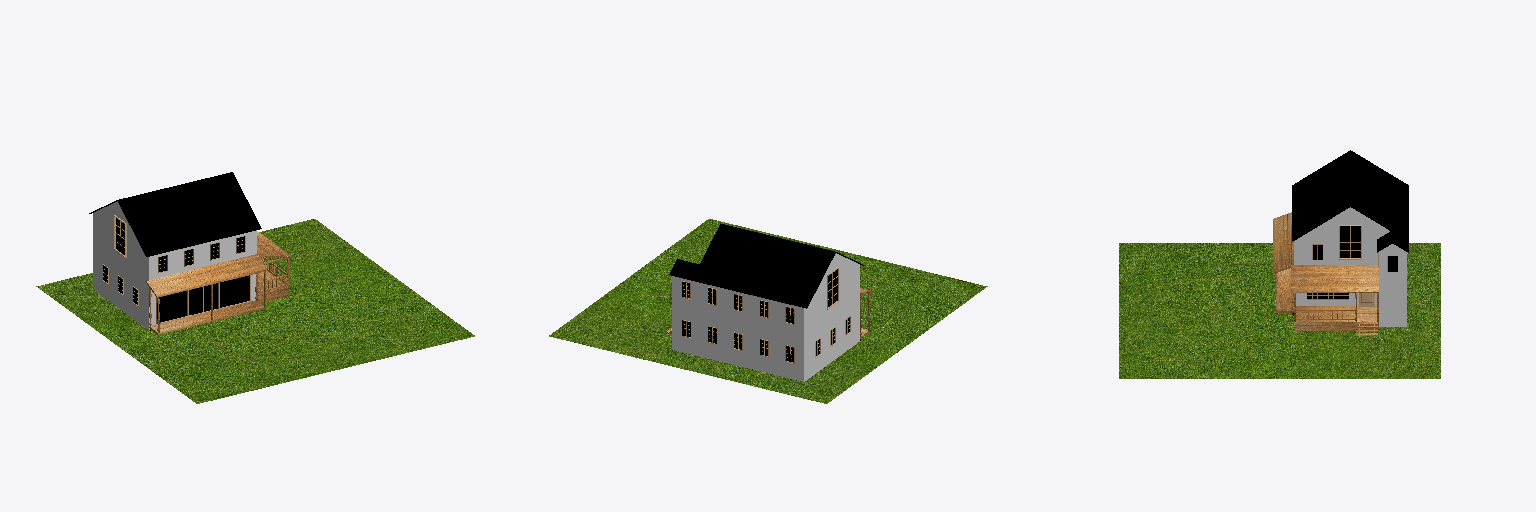
3 views of the same model, side by side, from view 1: azimuth 30°, elevation 25°; view 2: azimuth 150°, elevation 25°; view 3: azimuth 270°, elevation 25° (orthographic).
Visible parts, largest first — view 1: polySurface289; view 2: polySurface289; view 3: polySurface289.
Boxes of the visible parts, box(x1,y1,x2,y2) form: polySurface289: box(36, 172, 474, 403); polySurface289: box(549, 219, 987, 403); polySurface289: box(1119, 150, 1440, 378).
Size of the model in its own units: 34.36 by 13.06 by 34.36.
7 materials, 4 textured.